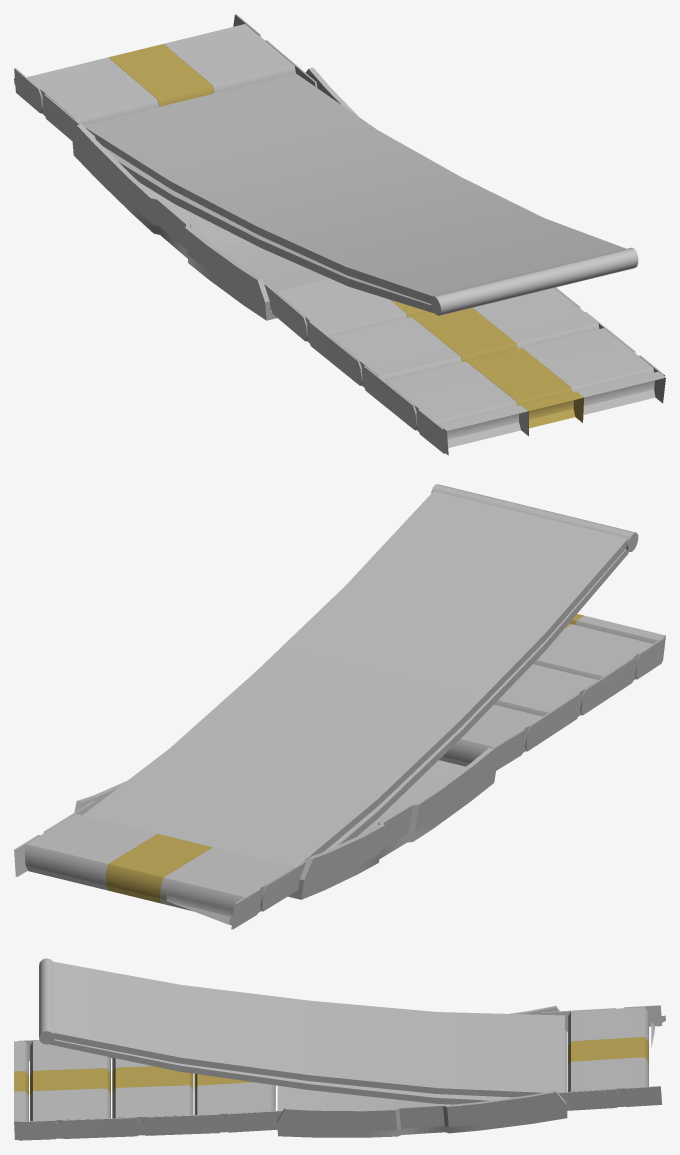
The model's file is two-tone-watch-lock.gltf.
The picture shows the model from 3 angles, top to bottom: view 1: azimuth 30°, elevation 25°; view 2: azimuth 150°, elevation 25°; view 3: azimuth 270°, elevation 25°; orthographic projection. The views are drawn at different scales.
Visible parts, largest first — view 1: two-tone-watch.001; view 2: two-tone-watch.001; view 3: two-tone-watch.001.
Part boxes in pixels (x1=…): two-tone-watch.001: x1=14, y1=14, x2=665, y2=455; two-tone-watch.001: x1=14, y1=484, x2=665, y2=929; two-tone-watch.001: x1=14, y1=958, x2=665, y2=1140.
Bounding box in the file's own units: 0.3266 × 0.1869 × 1.04.
